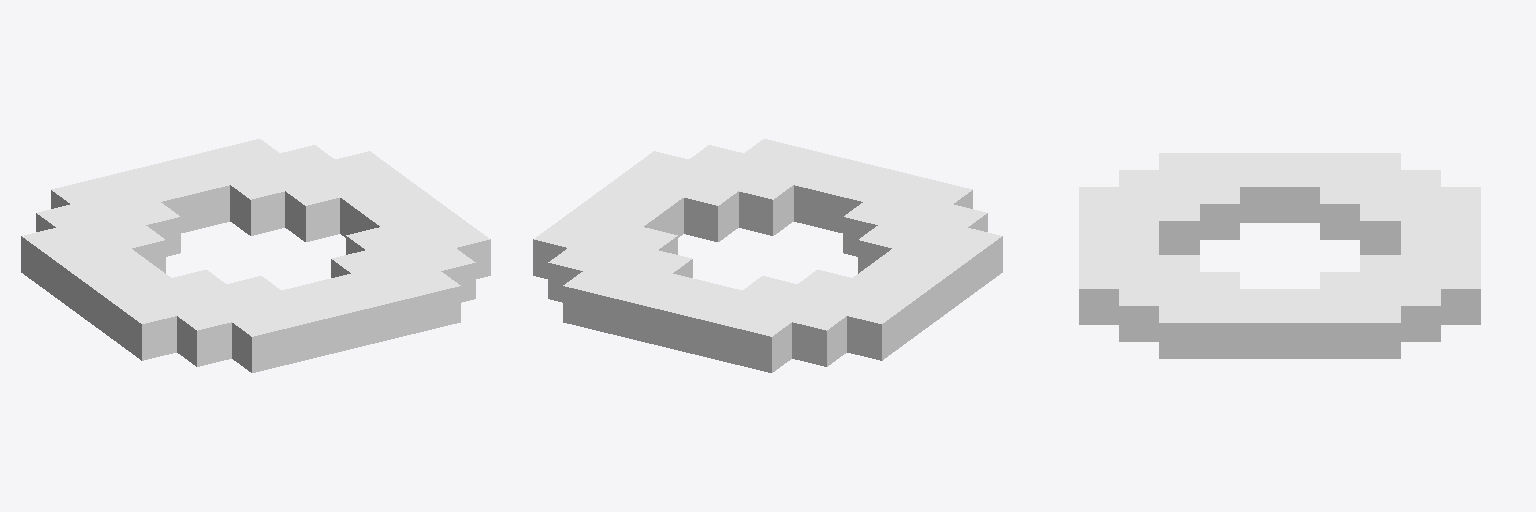
Rendered from WindUpLight.obj.
3 renders of one model, left to right at view 1: azimuth 30°, elevation 25°; view 2: azimuth 150°, elevation 25°; view 3: azimuth 270°, elevation 25°, orthographic.
Parts seen in each view (by area): view 1: object 1; view 2: object 1; view 3: object 1.
Part boxes in pixels (left/top/right/bottom): object 1: left=21, top=139, right=490, bottom=372; object 1: left=533, top=139, right=1002, bottom=372; object 1: left=1079, top=153, right=1480, bottom=358.
Bounding box in the file's own units: 1 × 0.1 × 1.